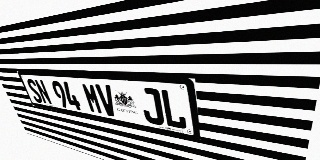4: (61, 81, 82, 111)
9: (50, 80, 71, 109)
J: (138, 87, 165, 126)
L: (160, 89, 187, 130)
M: (81, 83, 104, 115)
N: (34, 79, 53, 105)
S: (25, 78, 44, 104)
V: (95, 84, 119, 117)
